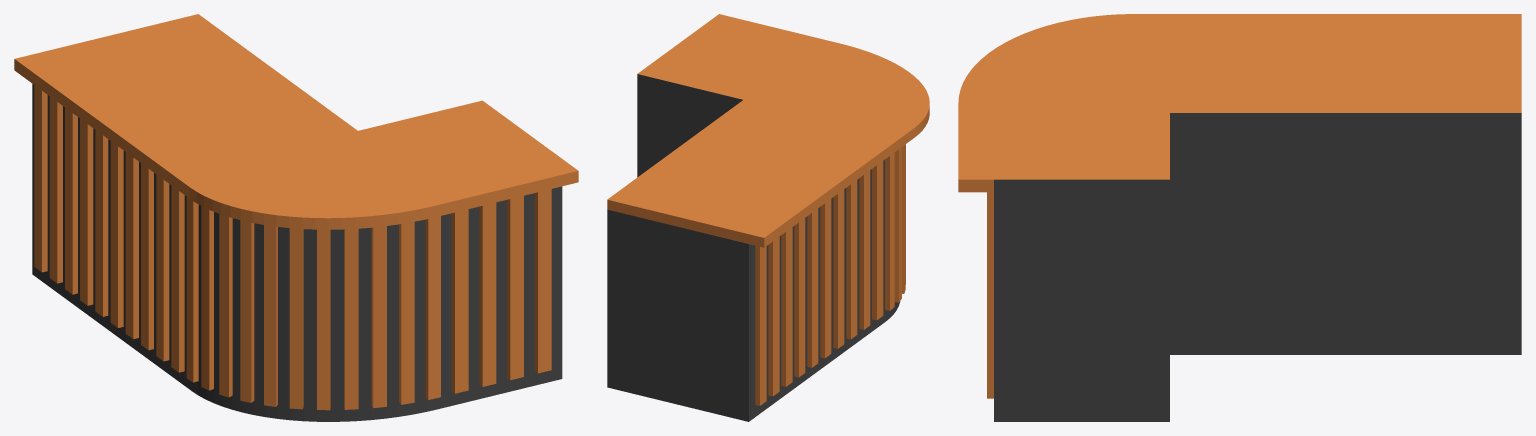
Rendered from Masa.fbx.
3 views of the same model, side by side, from view 1: azimuth 30°, elevation 25°; view 2: azimuth 150°, elevation 25°; view 3: azimuth 270°, elevation 25° (orthographic). The views are drawn at different scales.
Visible parts, largest first — view 1: masa; view 2: masa; view 3: masa.
Part boxes in pixels (bbox=[...]): masa: bbox=[14, 14, 578, 421]; masa: bbox=[607, 14, 929, 421]; masa: bbox=[958, 14, 1521, 421].
Bounding box in the file's own units: 111 × 76 × 160.
